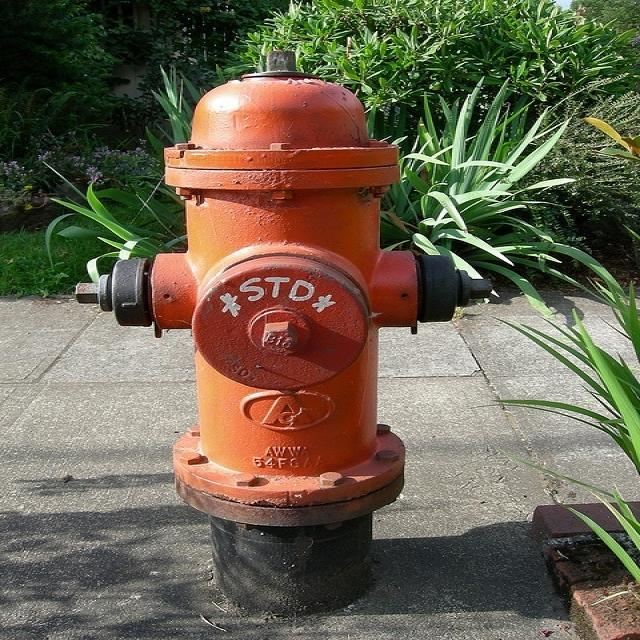fire_hydrant: (21, 56, 489, 603)
